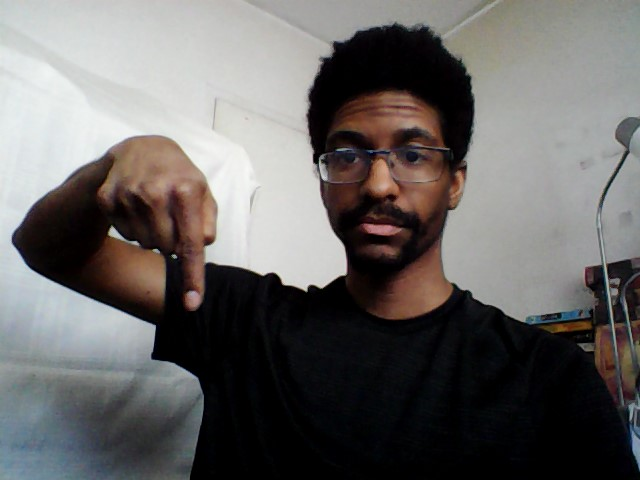q: (92, 129, 225, 318)
